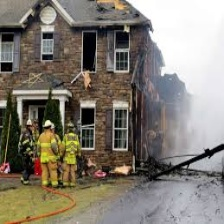smoke: (175, 53, 224, 165)
